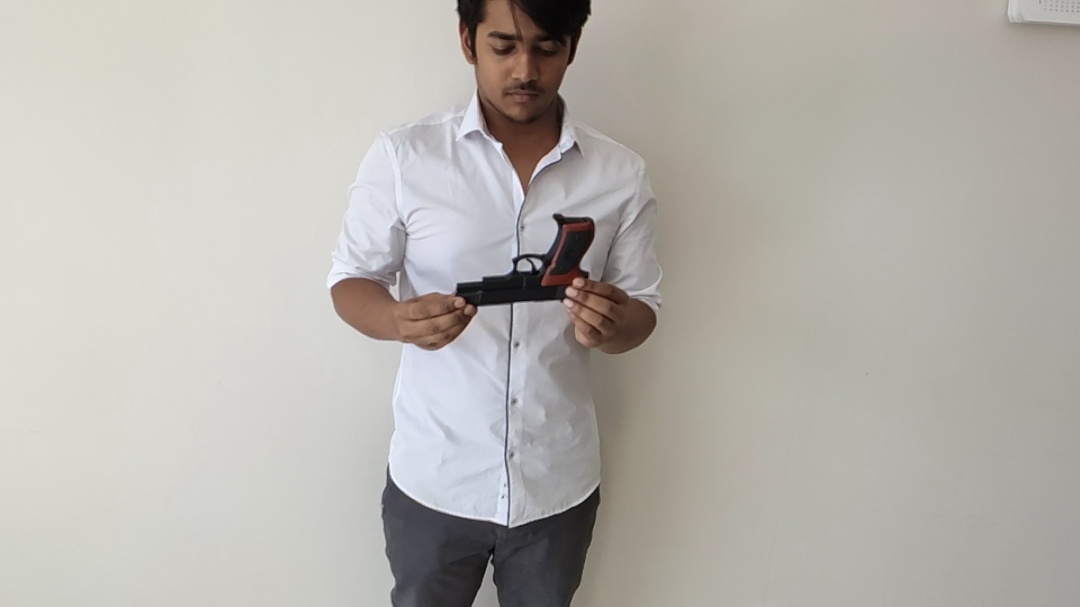gun: (456, 213, 597, 303)
